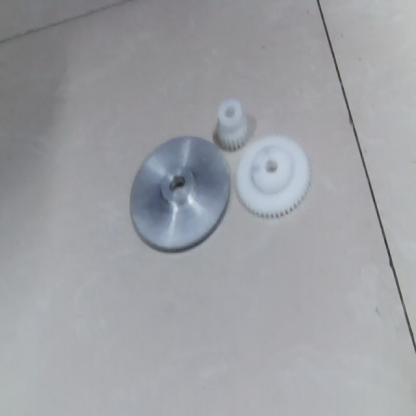FOD: (126, 134, 230, 254), (235, 134, 316, 228), (212, 96, 250, 148)
